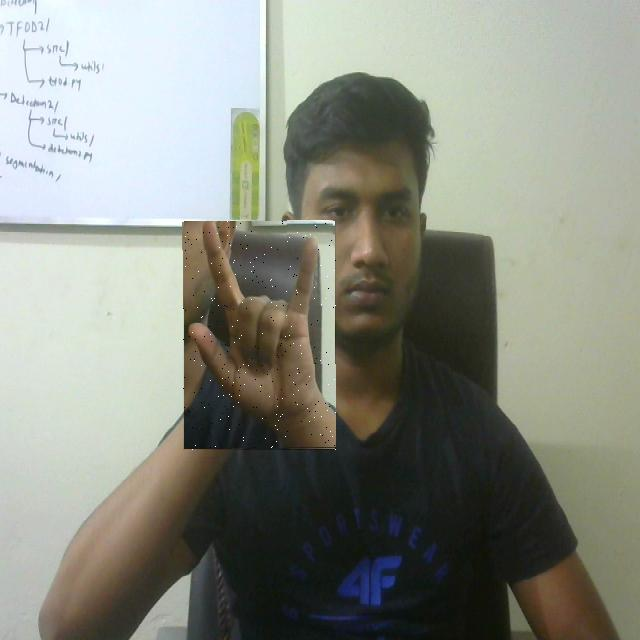IloveYou: (183, 221, 336, 450)
